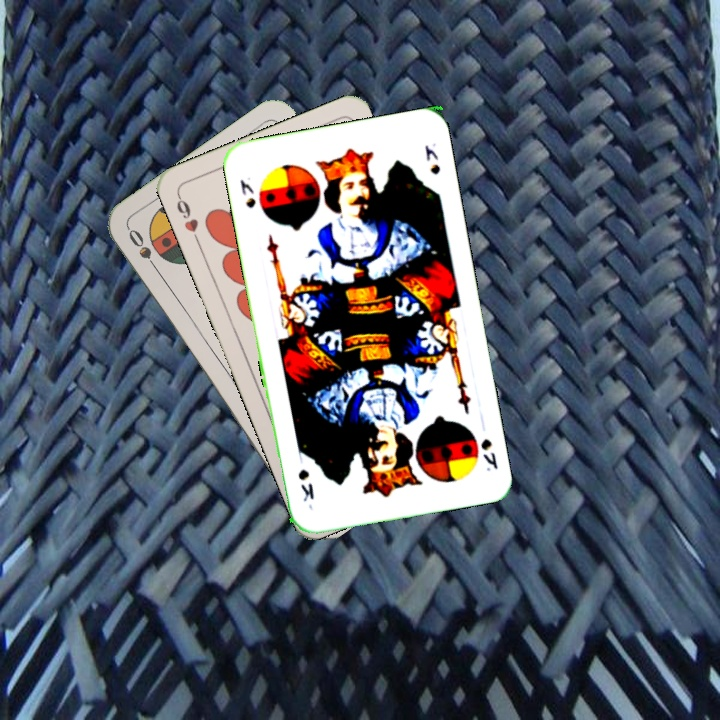H9: (172, 190, 203, 247)
SK: (477, 434, 501, 474), (236, 175, 258, 211)
SO: (124, 224, 163, 277)
